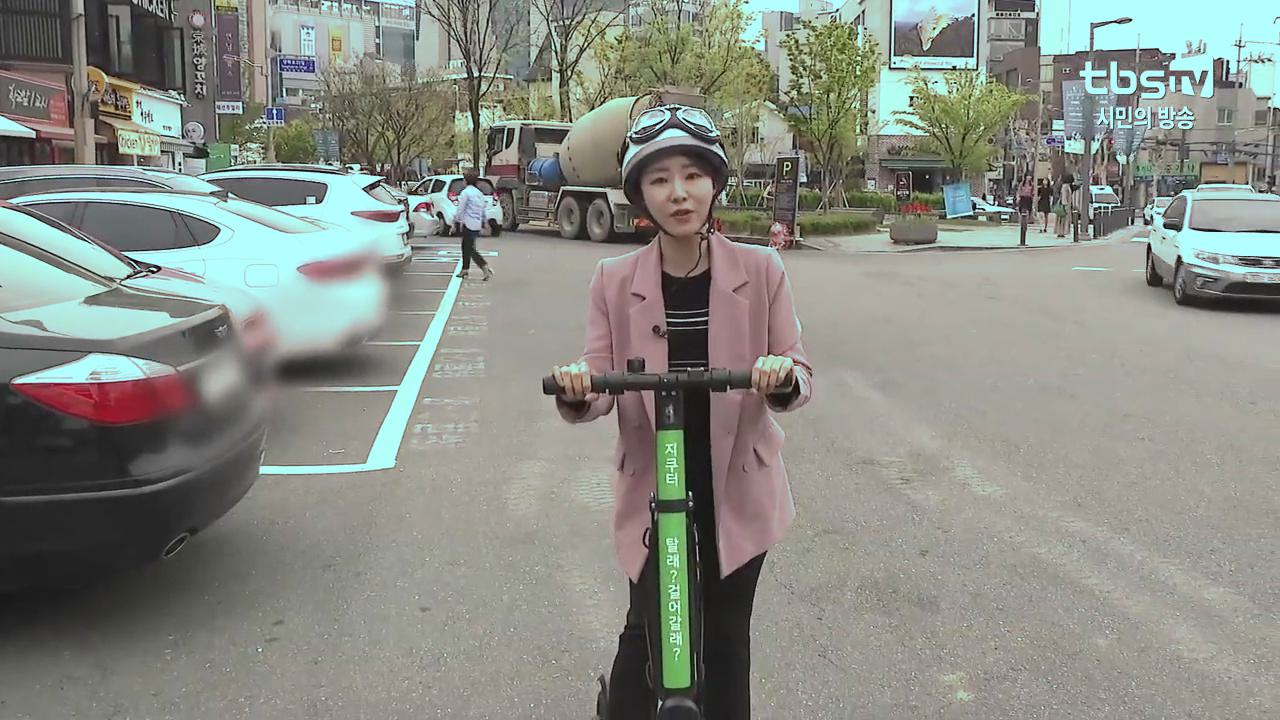helmet: (536, 101, 819, 720)
